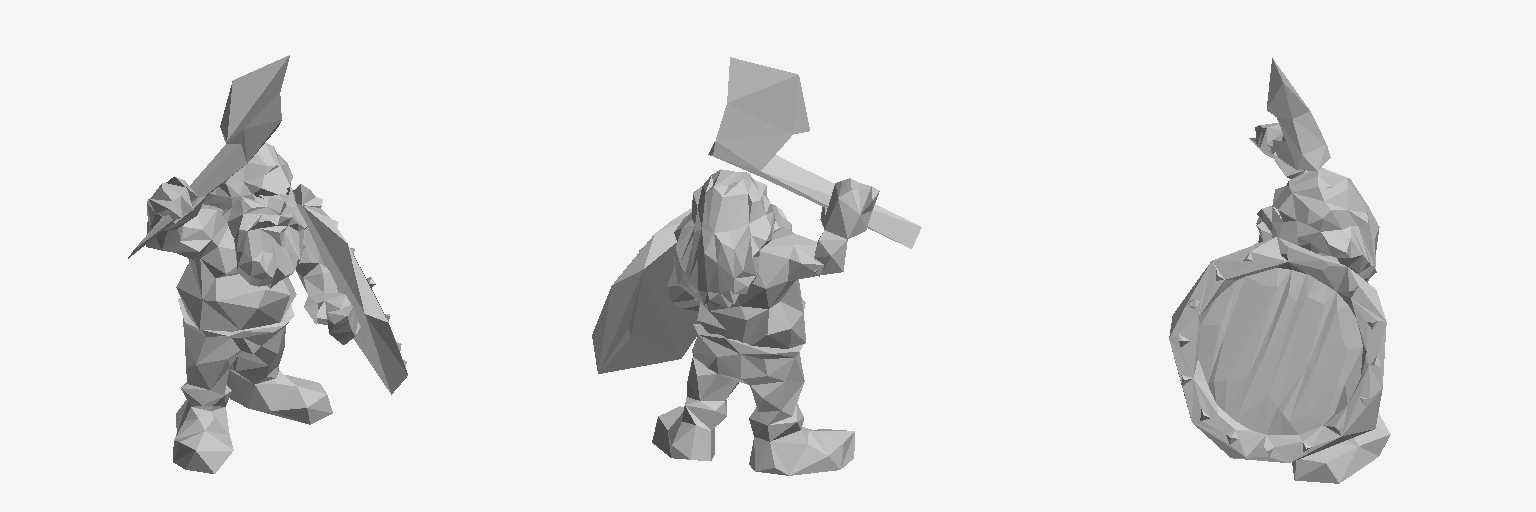
The model's file is boss.obj.
The picture shows the model from 3 angles: view 1: azimuth 30°, elevation 25°; view 2: azimuth 150°, elevation 25°; view 3: azimuth 270°, elevation 25°; orthographic projection.
Visible parts, largest first — view 1: Brok_Armed; view 2: Brok_Armed; view 3: Brok_Armed.
Part boxes in pixels (left/top/right/bottom): Brok_Armed: left=128, top=55, right=407, bottom=473; Brok_Armed: left=592, top=57, right=921, bottom=475; Brok_Armed: left=1169, top=58, right=1390, bottom=483.
Bounding box in the file's own units: 0.8223 × 1.09 × 0.5718.